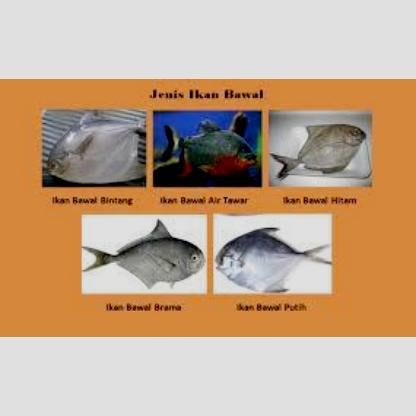ikan-pacu: (85, 225, 205, 287), (215, 224, 323, 292), (46, 112, 142, 184), (276, 120, 366, 176), (162, 126, 260, 174)
